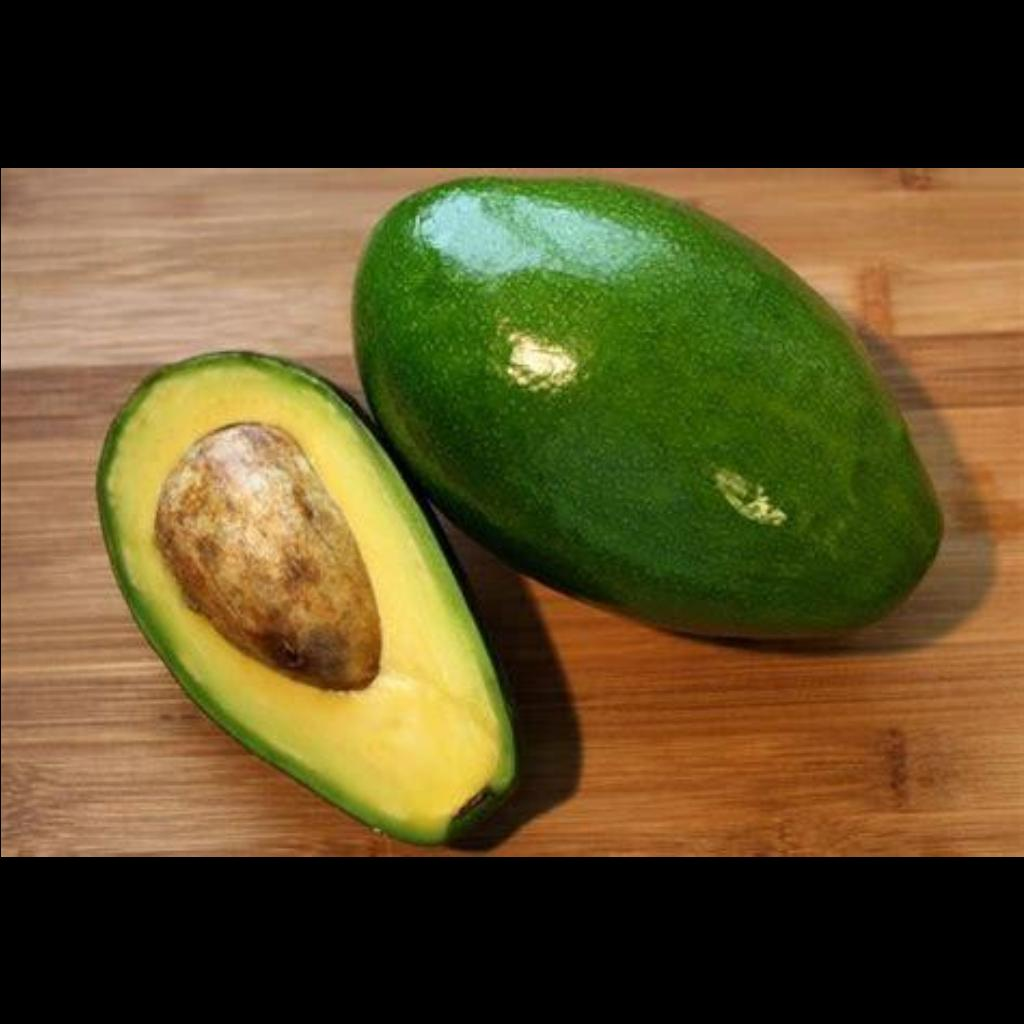Healthy: (310, 172, 948, 642), (48, 350, 548, 840)
